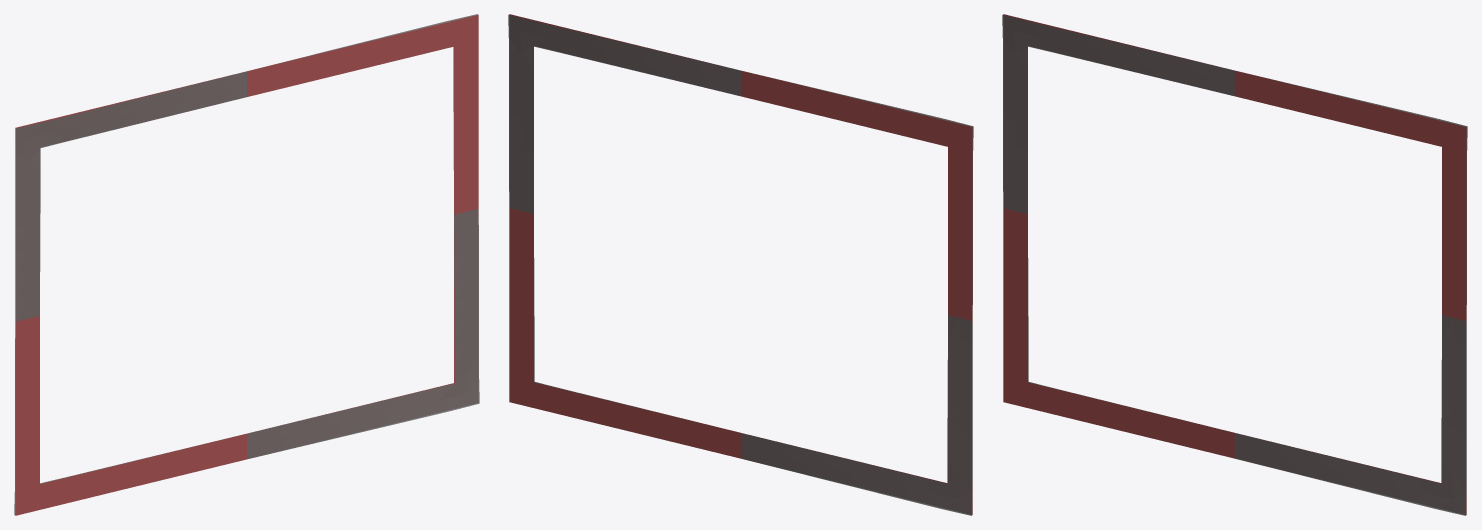
The model's file is warping-rhs-150-120-8-0-0-222.glb.
3 views of the same model, side by side, from view 1: azimuth 30°, elevation 25°; view 2: azimuth 150°, elevation 25°; view 3: azimuth 330°, elevation 25° (orthographic).
Visible parts, largest first — view 1: undeformed cross-section, cross-section with warping; view 2: undeformed cross-section, cross-section with warping; view 3: undeformed cross-section, cross-section with warping.
Boxes of the visible parts, <box> form: undeformed cross-section: <box>15,15,478,515</box>; cross-section with warping: <box>14,14,479,514</box>; undeformed cross-section: <box>509,14,972,514</box>; cross-section with warping: <box>508,15,973,515</box>; undeformed cross-section: <box>1003,14,1466,514</box>; cross-section with warping: <box>1002,15,1467,515</box>.
Size of the model in its own units: 0.15 by 0.12 by 0.00159.
